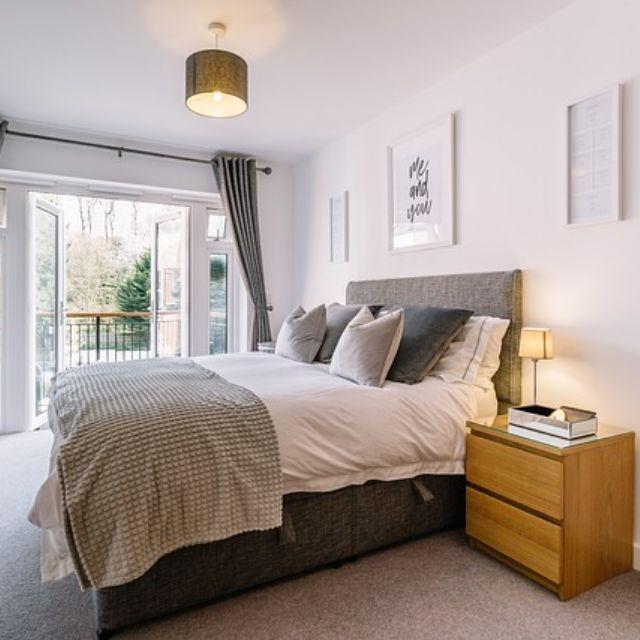bed: (36, 363, 495, 638)
lamp: (510, 324, 605, 445)
pillow: (384, 309, 503, 387), (334, 309, 407, 384), (274, 301, 327, 371)
window: (33, 190, 188, 359)
